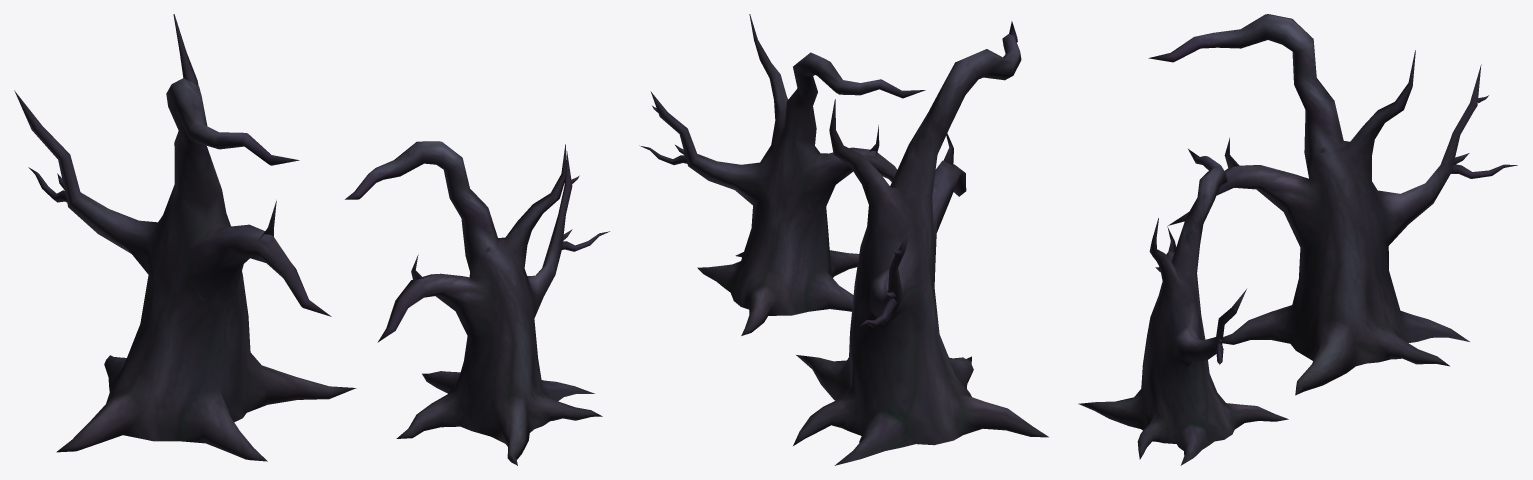
File: Area08_2.fbx
The picture shows the model from 3 angles, left to right: view 1: azimuth 30°, elevation 25°; view 2: azimuth 150°, elevation 25°; view 3: azimuth 270°, elevation 25°; orthographic projection. The views are drawn at different scales.
Parts seen in each view (by area): view 1: Area08_2; view 2: Area08_2; view 3: Area08_2.
Boxes of the visible parts, x1,y1,x2,y2 form: Area08_2: [14, 14, 609, 465]; Area08_2: [639, 14, 1048, 465]; Area08_2: [1078, 14, 1517, 465].
Bounding box in the file's own units: 2276 × 1613 × 2058.
